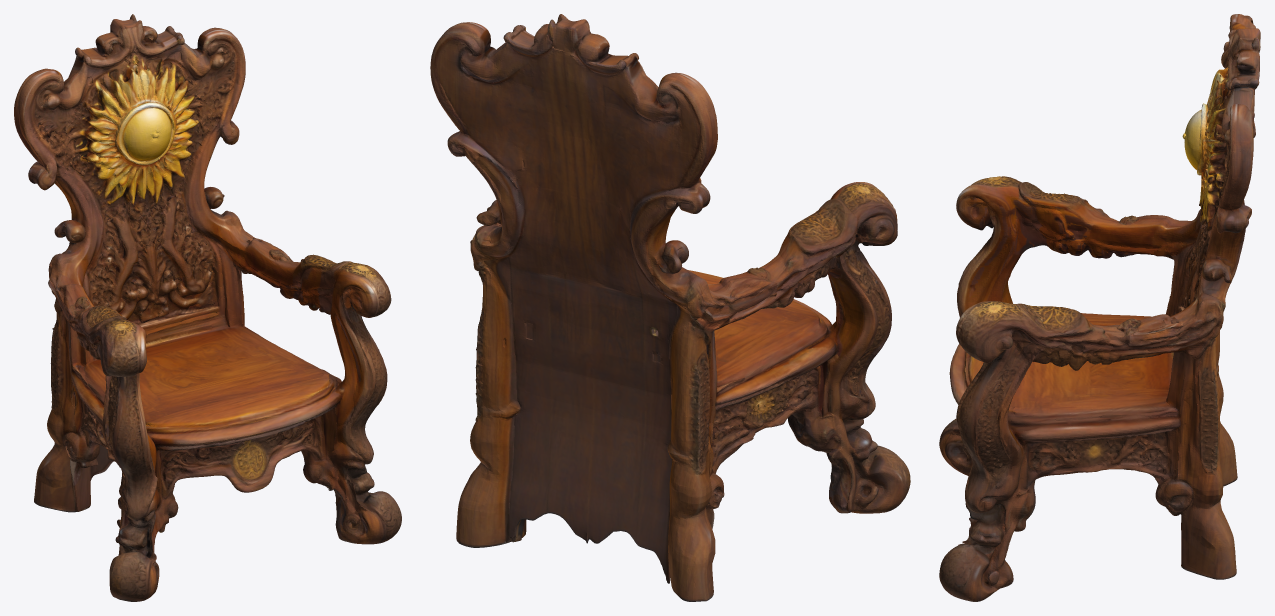
The model's file is Sunlit_Throne_0613145545_texture.fbx.
The picture shows the model from 3 angles, left to right: view 1: azimuth 30°, elevation 25°; view 2: azimuth 150°, elevation 25°; view 3: azimuth 270°, elevation 25°; orthographic projection. The views are drawn at different scales.
Parts seen in each view (by area): view 1: temp; view 2: temp; view 3: temp.
Boxes of the visible parts, x1,y1,x2,y2 form: temp: [14, 14, 401, 601]; temp: [430, 14, 910, 601]; temp: [939, 14, 1260, 601].
Size of the model in its own units: 131 by 199 by 116.
Materials: 1 (1 with a texture image).
